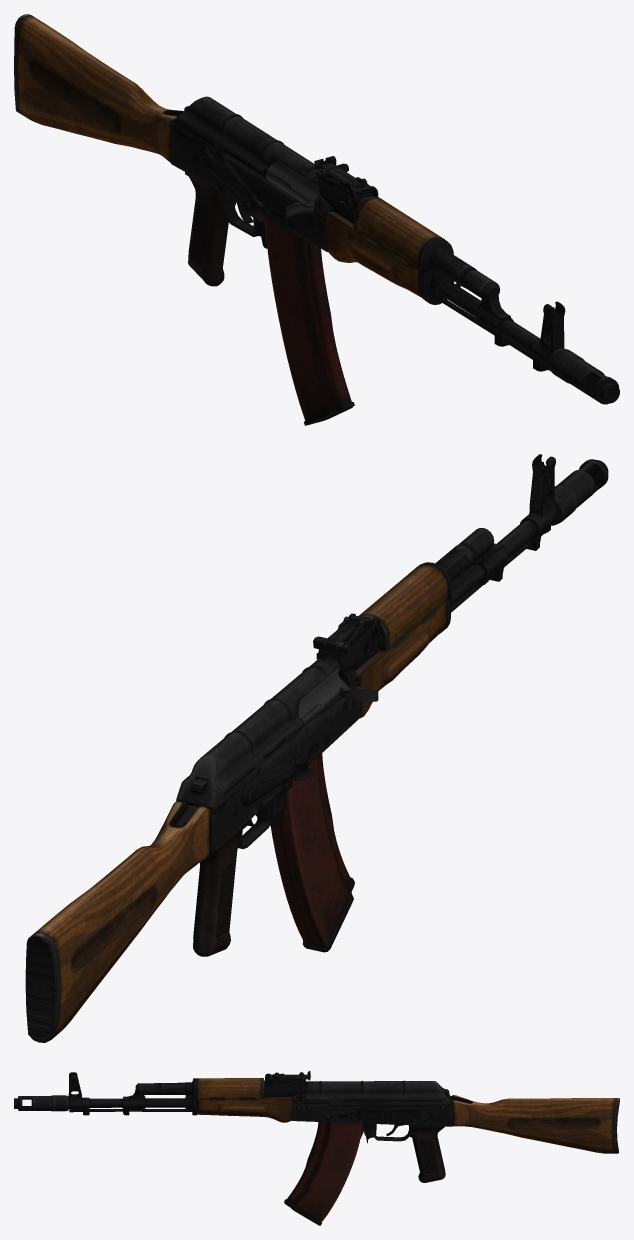
3 renders of one model, top to bottom at view 1: azimuth 30°, elevation 25°; view 2: azimuth 150°, elevation 25°; view 3: azimuth 270°, elevation 25°, orthographic. The views are drawn at different scales.
Visible parts, largest first — view 1: SMDImport; view 2: SMDImport; view 3: SMDImport.
Part boxes in pixels (x1,y1,x2,y2): SMDImport: (14, 14, 619, 425); SMDImport: (25, 454, 608, 1042); SMDImport: (14, 1071, 619, 1225).
Size of the model in its own units: 0.0739 by 0.2612 by 0.93.
1 material, 1 textured.
